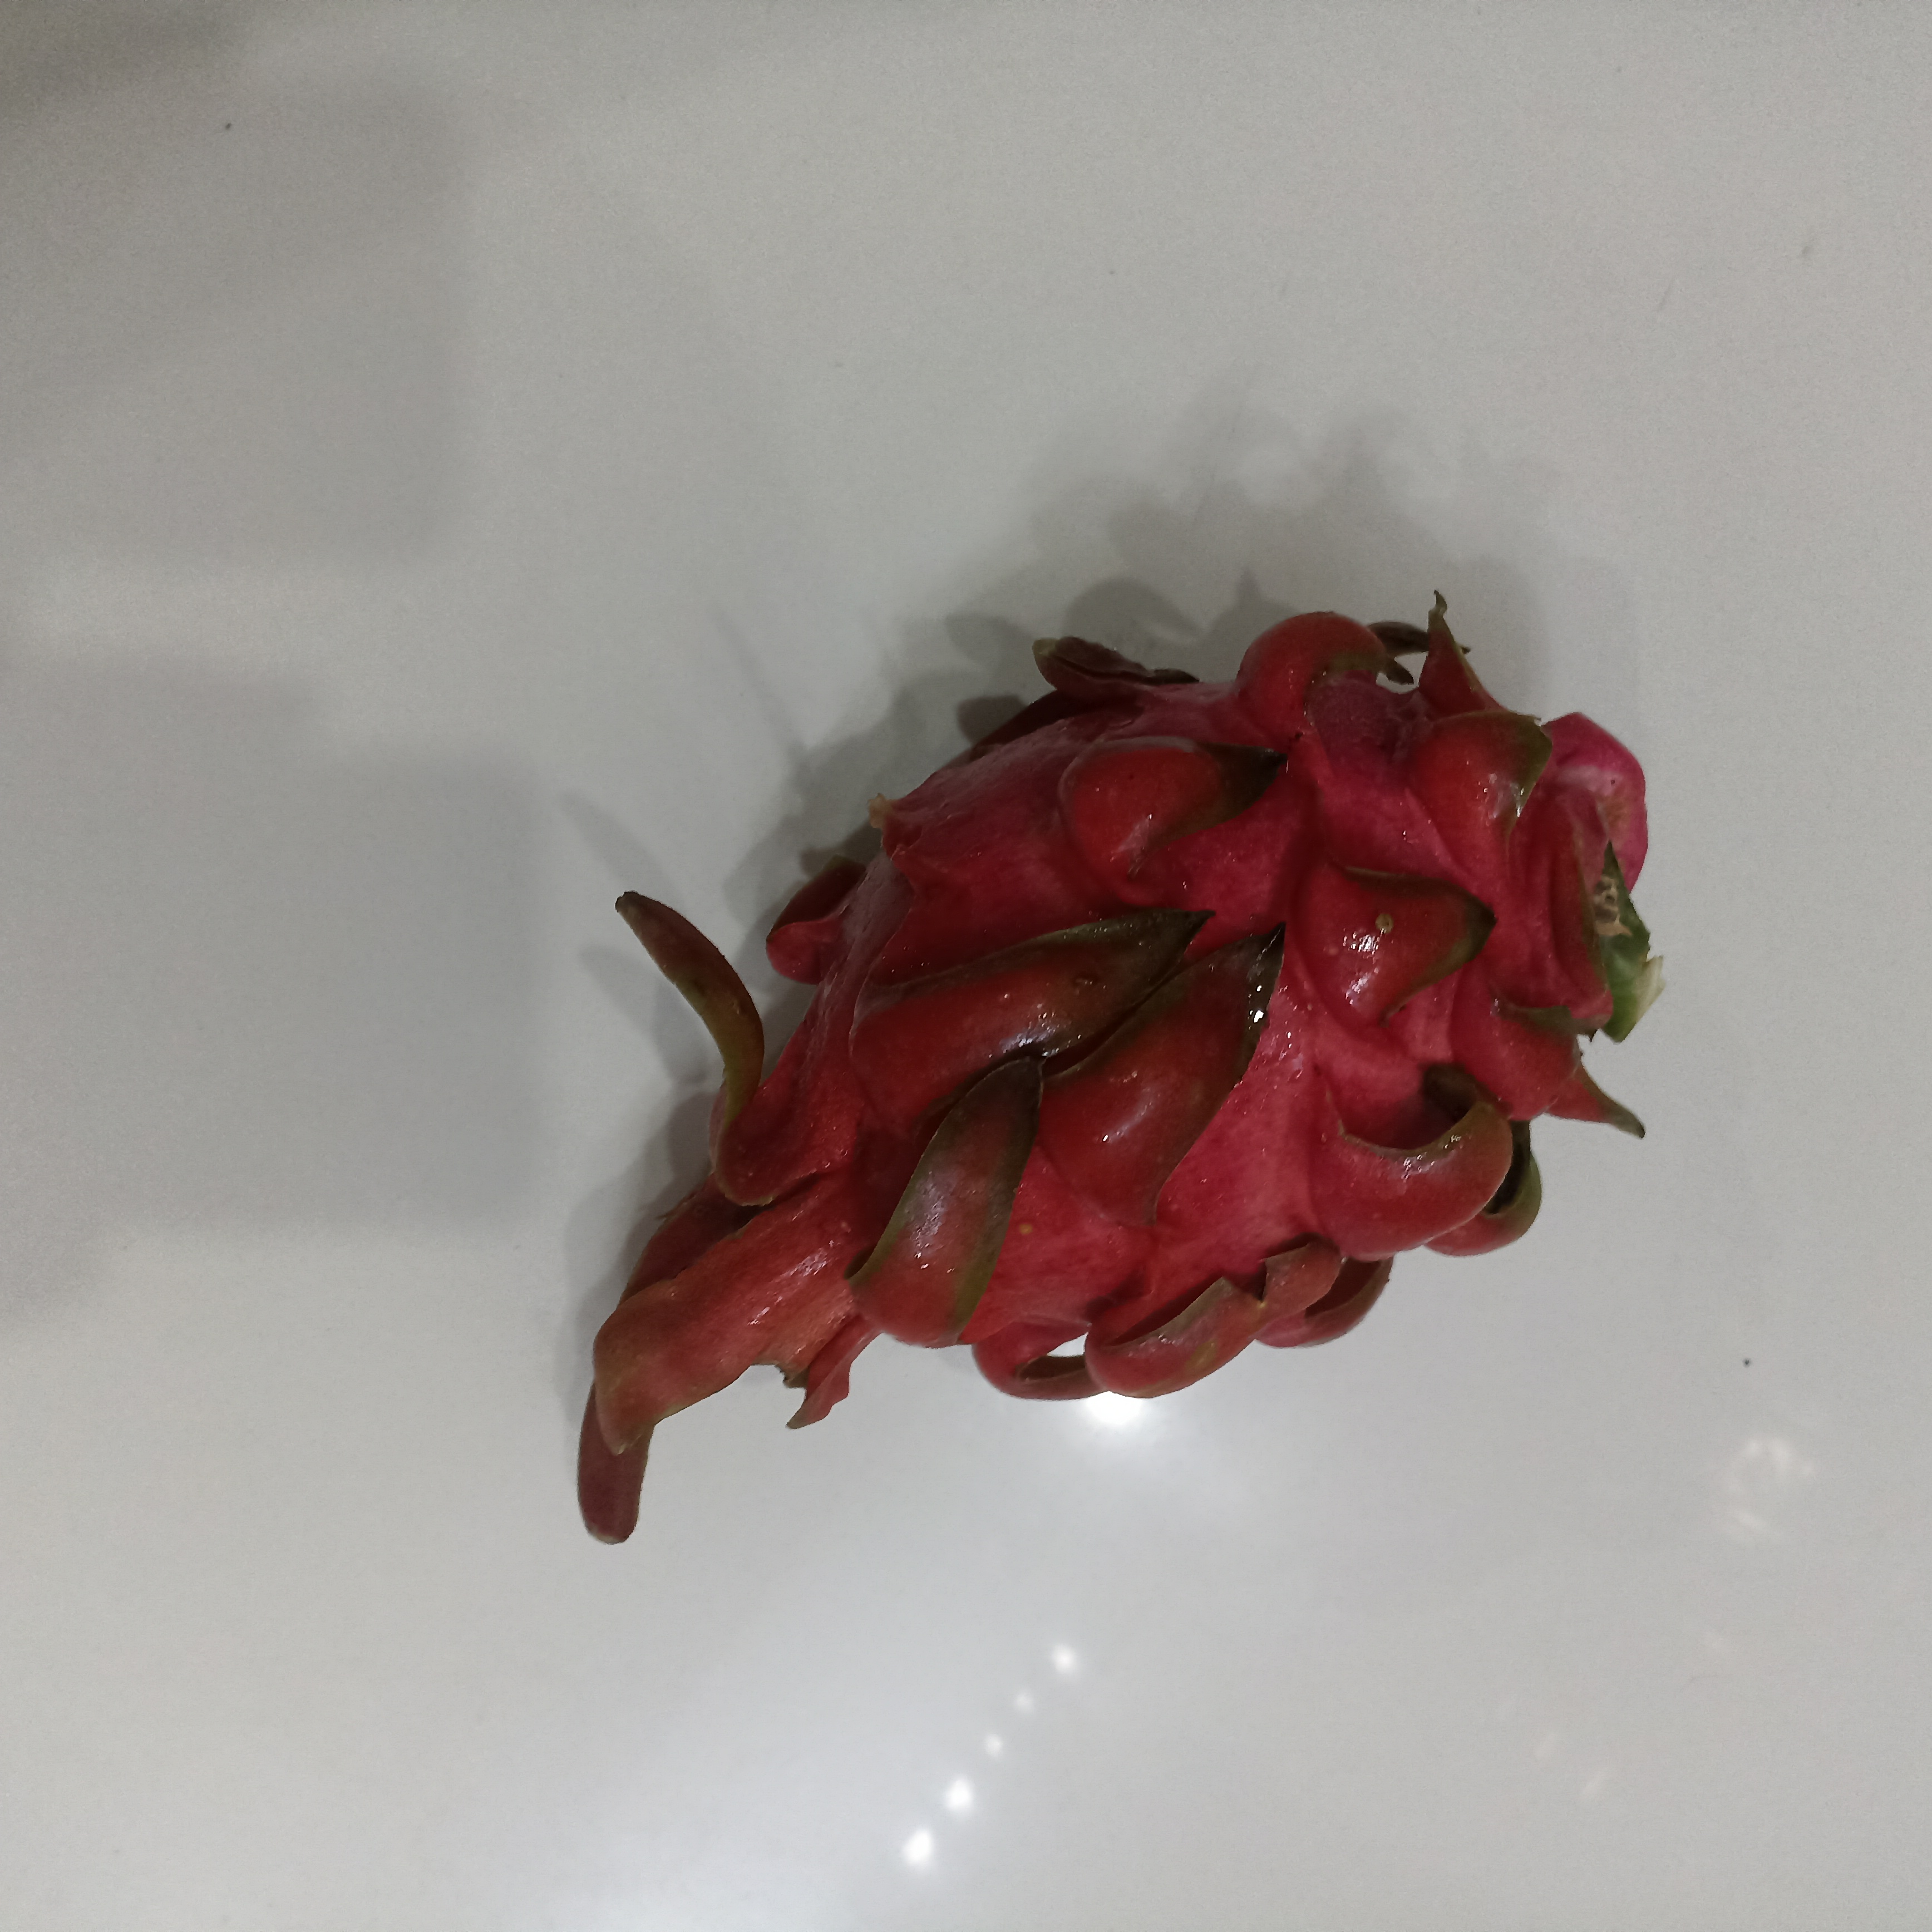Thanh long: (701, 660, 1642, 1423)
